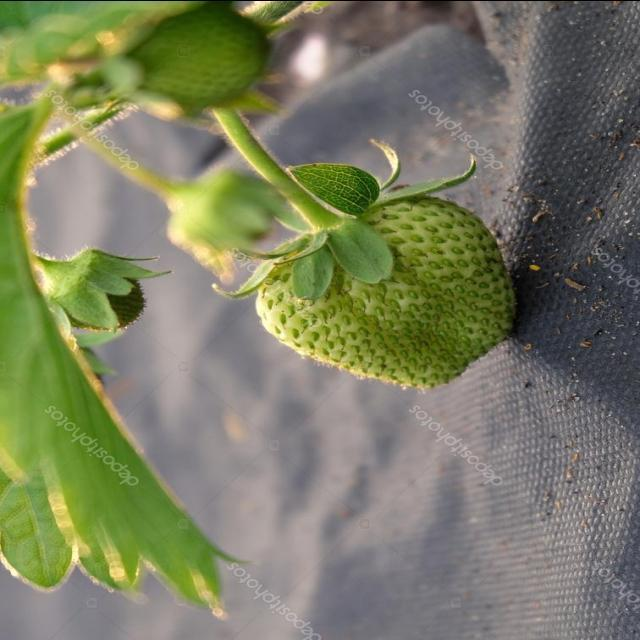unripe: (252, 196, 510, 388), (110, 8, 262, 108)
